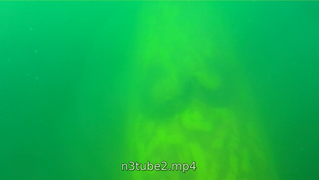3: (139, 55, 242, 120)
pipe: (125, 1, 278, 179)
